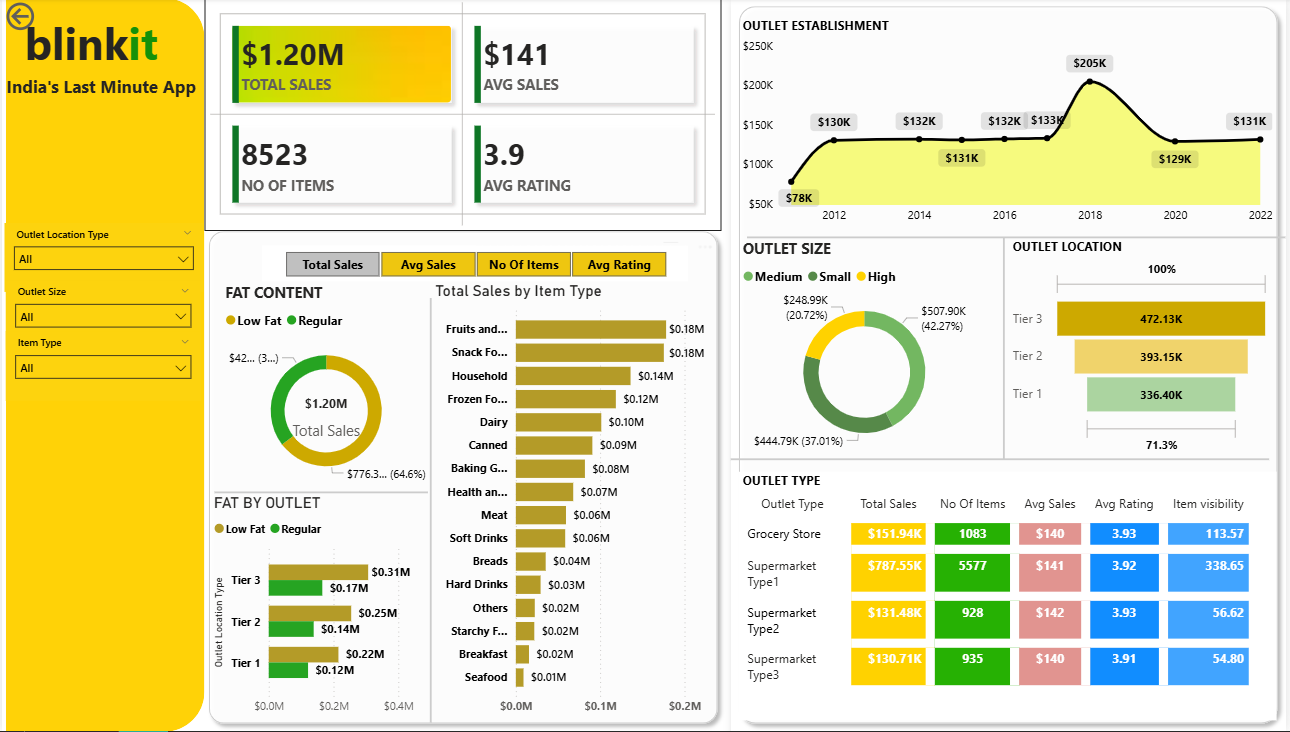

The dashboard page shown, as its layout file describes it:
{"tool":"powerbi","page":{"name":"Page 1","canvas":[1400,800],"ordinal":0},"visuals":[{"type":"shape","box":[4.1,0,216.8,800.3],"z":0},{"type":"textbox","box":[343.6,729.4,135,61.4],"z":1000},{"type":"textbox","box":[344,0,150,729],"z":2000},{"type":"textbox","box":[568.5,691.2,150,38.2],"z":3000},{"type":"textbox","box":[12.3,10.9,170.4,77.7],"z":4000},{"type":"textbox","box":[0,79.1,219.5,45],"z":5000},{"type":"actionButton","box":[0,0,100,40],"z":6000},{"type":"cardVisual","fields":{"Data":["BlinkIT Grocery Data.Total Sales","BlinkIT Grocery Data.Avg Sales","BlinkIT Grocery Data.No Of Items","BlinkIT Grocery Data.Avg Rating"]},"box":[220.9,0,563.1,254.9],"z":7000},{"type":"shape","box":[216.8,245.4,572.6,554.9],"z":8000},{"type":"donutChart","title":"FAT CONTENT","fields":{"Y":["BlinkIT Grocery Data.Total Sales"],"Category":["BlinkIT Grocery Data.Item Fat Content"]},"box":[238.6,309.5,230.4,230.4],"z":9000},{"type":"slicer","fields":{"Values":["Metrics.Metrics"]},"box":[283.6,269.9,464.9,39.5],"z":10000},{"type":"card","fields":{"Values":["BlinkIT Grocery Data.Total Sales"]},"box":[298.6,425.4,110.4,61.4],"z":11000},{"type":"clusteredBarChart","title":"FAT BY OUTLET","fields":{"Y":["BlinkIT Grocery Data.Total Sales"],"Category":["BlinkIT Grocery Data.Outlet Location Type"],"Series":["BlinkIT Grocery Data.Item Fat Content"]},"box":[226.3,539.9,241.3,250.9],"z":12000},{"type":"shape","box":[231.8,523.5,233.1,31.4],"z":13000},{"type":"shape","box":[445.8,327.2,43.6,463.5],"z":14000},{"type":"barChart","fields":{"Y":["BlinkIT Grocery Data.Total Sales"],"Category":["BlinkIT Grocery Data.Item Type"]},"box":[467.6,309.5,321.7,481.3],"z":15000},{"type":"shape","box":[794.8,0,605.3,800.3],"z":16000},{"type":"shape","box":[812.5,245.4,587.6,31.4],"z":17000},{"type":"donutChart","title":"OUTLET SIZE","fields":{"Y":["BlinkIT Grocery Data.Total Sales"],"Category":["BlinkIT Grocery Data.Outlet Size"]},"box":[803,261.8,275.4,241.3],"z":18000},{"type":"lineChart","title":"OUTLET ESTABLISHMENT","fields":{"Category":["BlinkIT Grocery Data.Outlet Establishment Year"],"Y":["BlinkIT Grocery Data.Total Sales"]},"box":[803,20.5,587.6,234.5],"z":19000},{"type":"shape","box":[1087.9,261.8,9.5,241.3],"z":20000},{"type":"funnel","title":"OUTLET LOCATION","fields":{"Y":["Sum(BlinkIT Grocery Data.Sales)"],"Category":["BlinkIT Grocery Data.Outlet Location Type"]},"box":[1097.5,261.8,290.4,241.3],"z":21000},{"type":"shape","box":[794.8,492.2,587.6,21.8],"z":22000},{"type":"pivotTable","title":"OUTLET TYPE","fields":{"Rows":["BlinkIT Grocery Data.Outlet Type"],"Values":["BlinkIT Grocery Data.Total Sales","BlinkIT Grocery Data.No Of Items","BlinkIT Grocery Data.Avg Sales","BlinkIT Grocery Data.Avg Rating","Sum(BlinkIT Grocery Data.Item Visibility)"]},"box":[803,516.7,587.6,271.3],"z":23000},{"type":"slicer","fields":{"Values":["BlinkIT Grocery Data.Outlet Location Type"]},"box":[2.7,245.4,216.8,75],"z":24000},{"type":"slicer","fields":{"Values":["BlinkIT Grocery Data.Outlet Size"]},"box":[4.1,308.1,212.7,75],"z":25000},{"type":"slicer","fields":{"Values":["BlinkIT Grocery Data.Item Type"]},"box":[4.1,364,212.7,75],"z":26000}]}

Visuals, with their boxes in screenshot pixels (x1, y1, x2, y2), scaled from the page's 1400x800 canvas onto the 1290x732 screenshot:
shape: 4, 0, 204, 731
textbox: 317, 667, 441, 724
textbox: 317, 0, 455, 667
textbox: 524, 632, 662, 667
textbox: 11, 10, 168, 81
textbox: 0, 72, 202, 114
actionButton: 0, 0, 92, 37
cardVisual - BlinkIT Grocery Data.Total Sales x BlinkIT Grocery Data.Avg Sales: 204, 0, 722, 233
shape: 200, 225, 727, 731
"FAT CONTENT" donutChart: 220, 283, 432, 494
slicer - Metrics.Metrics: 261, 247, 690, 283
card - BlinkIT Grocery Data.Total Sales: 275, 389, 377, 445
"FAT BY OUTLET" clusteredBarChart: 209, 494, 431, 724
shape: 214, 479, 428, 508
shape: 411, 299, 451, 723
barChart - BlinkIT Grocery Data.Total Sales x BlinkIT Grocery Data.Item Type: 431, 283, 727, 724
shape: 732, 0, 1289, 731
shape: 749, 225, 1289, 253
"OUTLET SIZE" donutChart: 740, 240, 994, 460
"OUTLET ESTABLISHMENT" lineChart: 740, 19, 1281, 233
shape: 1002, 240, 1011, 460
"OUTLET LOCATION" funnel: 1011, 240, 1279, 460
shape: 732, 450, 1274, 470
"OUTLET TYPE" pivotTable: 740, 473, 1281, 721
slicer - BlinkIT Grocery Data.Outlet Location Type: 2, 225, 202, 293
slicer - BlinkIT Grocery Data.Outlet Size: 4, 282, 200, 351
slicer - BlinkIT Grocery Data.Item Type: 4, 333, 200, 402
